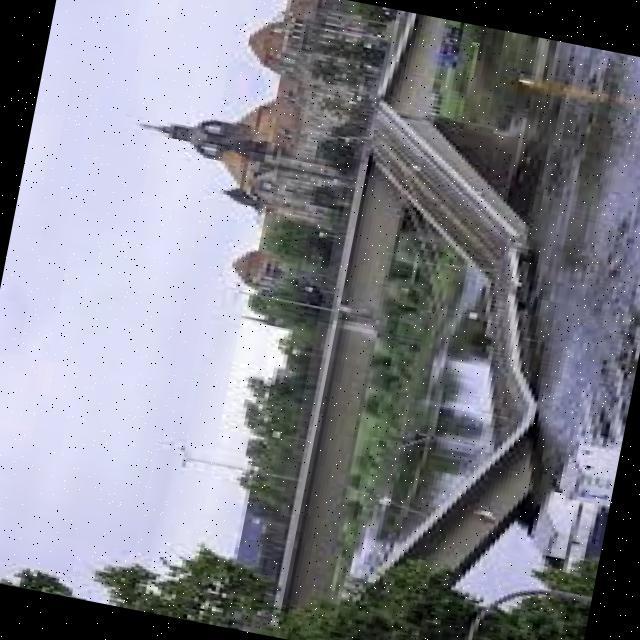bridge collapse: (223, 77, 640, 640)
